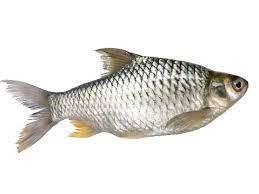Silver Barb: (4, 44, 251, 152)
